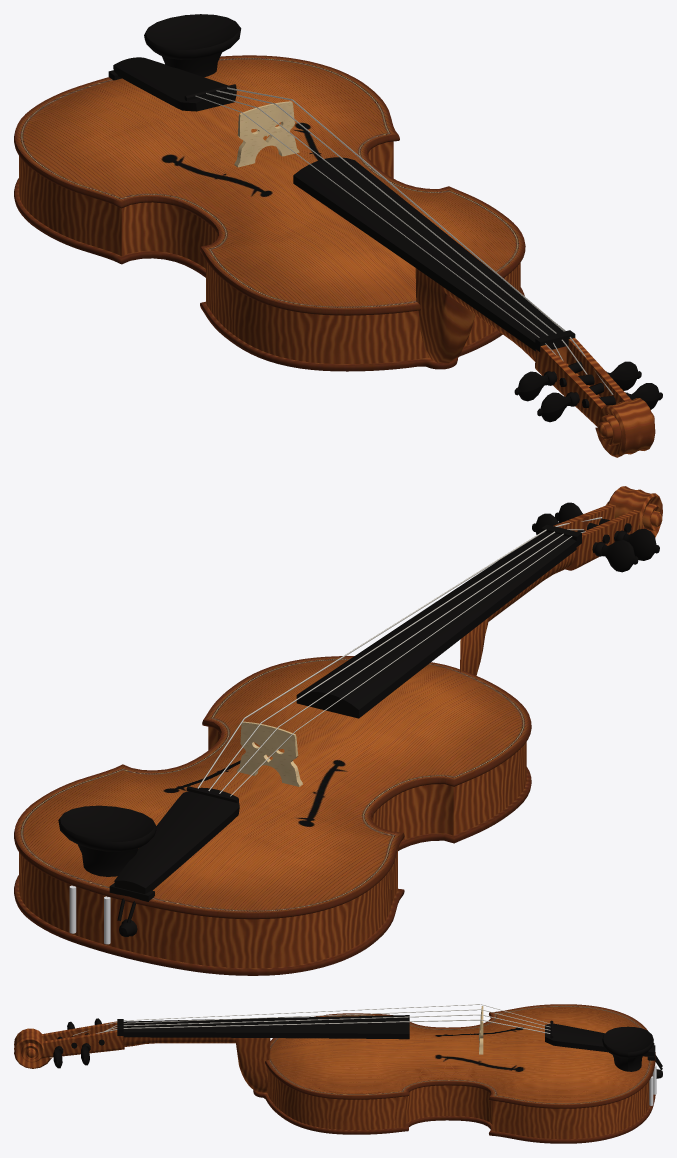
Rendered from viola.glb.
3 views of the same model, one above another, from view 1: azimuth 30°, elevation 25°; view 2: azimuth 150°, elevation 25°; view 3: azimuth 270°, elevation 25° (orthographic). The views are drawn at different scales.
Parts seen in each view (by area): view 1: viola_varnish_plates, viola_varnish_maple, viola_ebony, viola_strings, viola_bridge_maple; view 2: viola_varnish_plates, viola_varnish_maple, viola_ebony, viola_strings, viola_bridge_maple, viola_silver; view 3: viola_varnish_plates, viola_varnish_maple, viola_ebony, viola_strings, viola_silver.
Boxes of the visible parts, left/top/right/bottom form: viola_varnish_plates: left=14, top=55, right=525, bottom=371; viola_varnish_maple: left=19, top=141, right=655, bottom=457; viola_ebony: left=108, top=14, right=662, bottom=422; viola_strings: left=195, top=87, right=613, bottom=394; viola_bridge_maple: left=234, top=101, right=299, bottom=167; viola_varnish_plates: left=14, top=656, right=531, bottom=975; viola_varnish_maple: left=19, top=486, right=662, bottom=968; viola_ebony: left=58, top=502, right=659, bottom=936; viola_strings: left=197, top=517, right=602, bottom=796; viola_bridge_maple: left=237, top=721, right=302, bottom=786; viola_silver: left=69, top=885, right=110, bottom=944; viola_varnish_plates: left=253, top=1004, right=655, bottom=1143; viola_varnish_maple: left=14, top=1021, right=652, bottom=1139; viola_ebony: left=53, top=1015, right=662, bottom=1078; viola_strings: left=73, top=1004, right=550, bottom=1035; viola_silver: left=649, top=1065, right=656, bottom=1105.
Bounding box in the file's own units: 0.2488 × 0.1045 × 0.6717.
6 materials, 3 textured.
